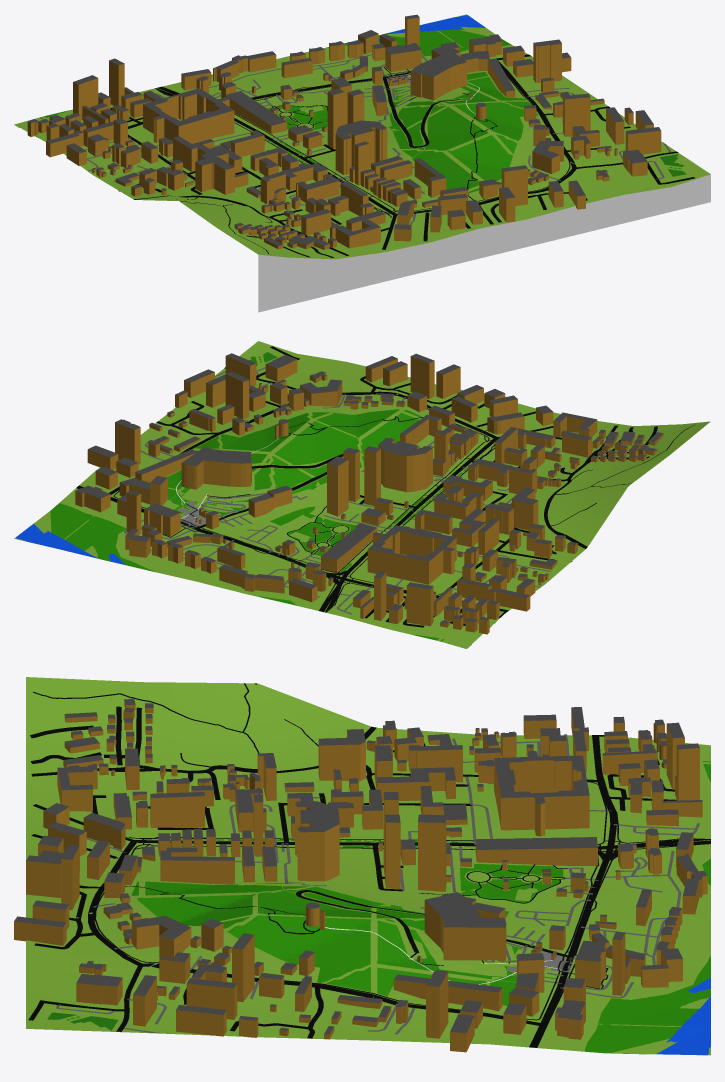
Rendered from tile_05_00.glb.
3 views of the same model, one above another, from view 1: azimuth 30°, elevation 25°; view 2: azimuth 150°, elevation 25°; view 3: azimuth 270°, elevation 25° (orthographic). The views are drawn at different scales.
Visible parts, largest first — view 1: Ub_small.osm_buildings_05_00, Terrain_05_00, Ub_small.osm_vegetation_05_00, Ub_small.osm_roads_residential_05_00, Ub_small.osm_roads_service_05_00, Ub_small.osm_roads_primary_05_00, Ub_small.osm_paths_footway_05_00, Ub_small.osm_water_05_00; view 2: Ub_small.osm_buildings_05_00, Terrain_05_00, Ub_small.osm_vegetation_05_00, Ub_small.osm_roads_residential_05_00, Ub_small.osm_roads_service_05_00, Ub_small.osm_roads_primary_05_00, Ub_small.osm_paths_footway_05_00, Ub_small.osm_water_05_00; view 3: Ub_small.osm_buildings_05_00, Terrain_05_00, Ub_small.osm_vegetation_05_00, Ub_small.osm_roads_residential_05_00, Ub_small.osm_roads_service_05_00, Ub_small.osm_roads_primary_05_00, Ub_small.osm_paths_footway_05_00, Ub_small.osm_water_05_00.
Part boxes in pixels (x1,y1,x2,y2): Ub_small.osm_buildings_05_00: (27,14,661,249); Terrain_05_00: (14,14,710,312); Ub_small.osm_vegetation_05_00: (15,29,680,193); Ub_small.osm_roads_residential_05_00: (36,77,694,257); Ub_small.osm_roads_service_05_00: (66,54,670,224); Ub_small.osm_roads_primary_05_00: (128,55,576,214); Ub_small.osm_paths_footway_05_00: (128,54,570,253); Ub_small.osm_water_05_00: (355,15,485,41); Ub_small.osm_buildings_05_00: (75,353,663,634); Terrain_05_00: (14,341,710,648); Ub_small.osm_vegetation_05_00: (50,356,471,648); Ub_small.osm_roads_residential_05_00: (156,346,657,627); Ub_small.osm_roads_service_05_00: (123,367,550,614); Ub_small.osm_roads_primary_05_00: (77,391,508,612); Ub_small.osm_paths_footway_05_00: (76,394,694,611); Ub_small.osm_water_05_00: (15,523,125,564); Ub_small.osm_buildings_05_00: (14,699,707,1052); Terrain_05_00: (26,677,710,1055); Ub_small.osm_vegetation_05_00: (66,761,710,1054); Ub_small.osm_roads_residential_05_00: (28,706,676,1038); Ub_small.osm_roads_service_05_00: (56,734,699,1034); Ub_small.osm_roads_primary_05_00: (88,735,710,1047); Ub_small.osm_paths_footway_05_00: (33,683,710,1047); Ub_small.osm_water_05_00: (656,978,710,1055).
Bounding box in the file's own units: 1037 × 154 × 930.
